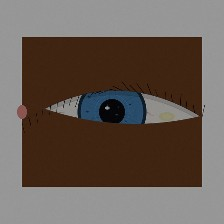pinguecula_lesion: (151, 104, 183, 129)
